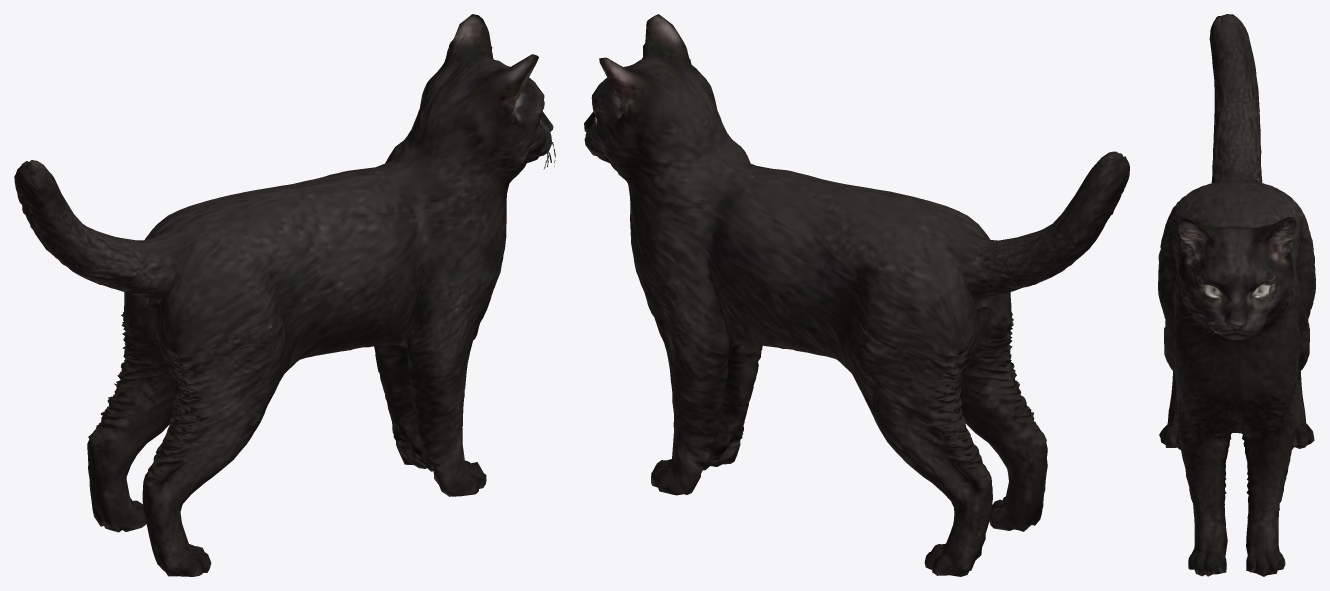
File: CATFLAP.glb
The picture shows the model from 3 angles, left to right: view 1: azimuth 30°, elevation 25°; view 2: azimuth 150°, elevation 25°; view 3: azimuth 270°, elevation 25°; orthographic projection. The views are drawn at different scales.
Visible parts, largest first — view 1: tripo_node_0e356019-a5e7-474f-a71e-219b72062b20; view 2: tripo_node_0e356019-a5e7-474f-a71e-219b72062b20; view 3: tripo_node_0e356019-a5e7-474f-a71e-219b72062b20.
Part boxes in pixels (x1,y1,x2,y2): tripo_node_0e356019-a5e7-474f-a71e-219b72062b20: (14,14,555,576); tripo_node_0e356019-a5e7-474f-a71e-219b72062b20: (584,14,1129,576); tripo_node_0e356019-a5e7-474f-a71e-219b72062b20: (1158,14,1315,576).
Size of the model in its own units: 1.31 by 0.9959 by 0.3759.
1 material, 1 textured.
